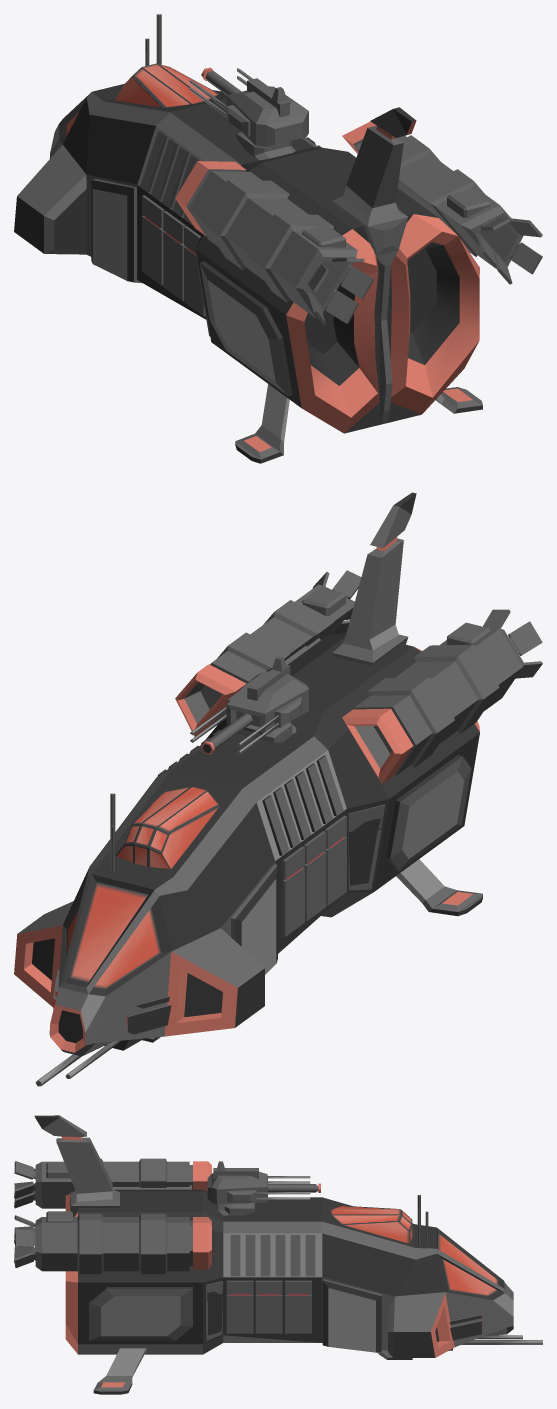
The model's file is Large_Aircraft.fbx.
3 renders of one model, top to bottom at view 1: azimuth 30°, elevation 25°; view 2: azimuth 150°, elevation 25°; view 3: azimuth 270°, elevation 25°, orthographic. The views are drawn at different scales.
Parts seen in each view (by area): view 1: Large_Aircraft; view 2: Large_Aircraft; view 3: Large_Aircraft.
Boxes of the visible parts, left/top/right/bottom form: Large_Aircraft: left=14, top=14, right=542, bottom=463; Large_Aircraft: left=14, top=492, right=542, bottom=1086; Large_Aircraft: left=14, top=1115, right=542, bottom=1394.
Bounding box in the file's own units: 625 × 880 × 1764.
